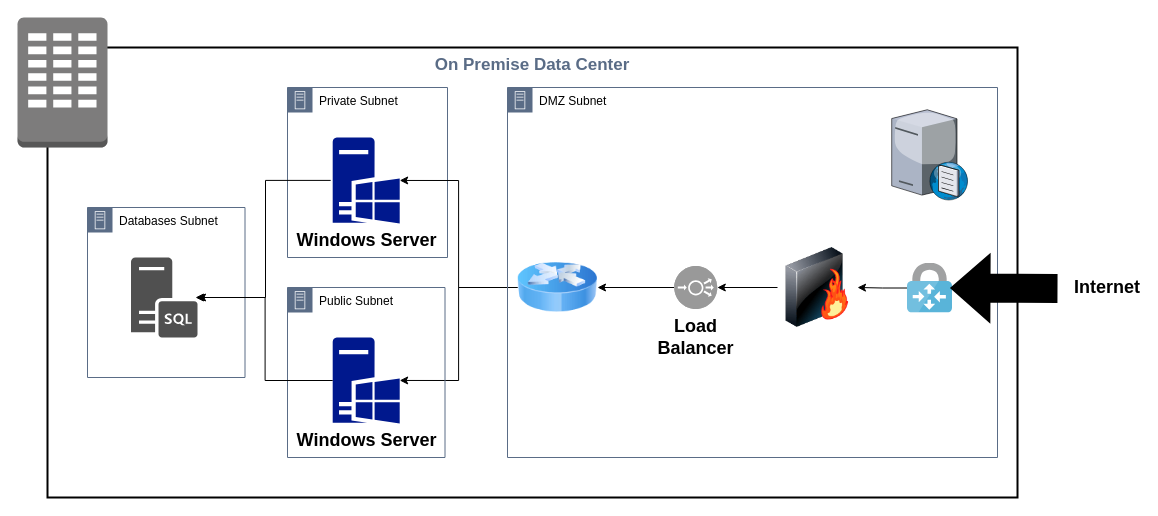
Some shapes in this 1158 by 516 pixel diagram are drawn without their labels. Each missing label, with the centre of its shape:
DNS Server: [929,153]
Firewall: [817,287]
Router: [557,287]
VPN Gateway: [929,287]
